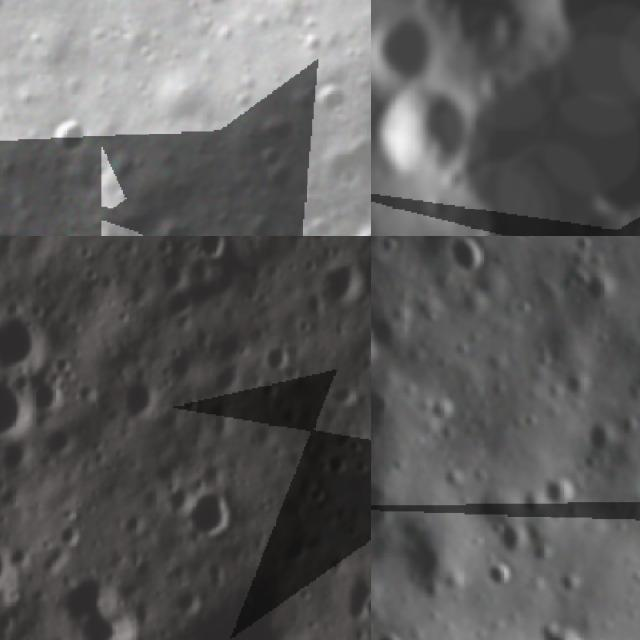crater: (371, 73, 483, 184), (57, 553, 151, 640), (371, 1, 447, 92), (298, 59, 360, 133), (372, 236, 499, 270), (181, 486, 244, 546), (0, 300, 49, 377), (116, 367, 174, 429), (40, 107, 95, 167), (317, 253, 365, 314), (519, 604, 599, 640), (0, 371, 35, 448), (0, 525, 28, 618), (533, 463, 584, 514), (570, 258, 621, 309), (486, 510, 535, 560), (440, 236, 494, 280), (371, 485, 395, 581), (553, 358, 601, 406), (577, 410, 623, 457), (478, 550, 522, 594), (160, 282, 207, 322), (27, 376, 66, 423), (40, 423, 80, 462), (0, 436, 38, 476), (45, 520, 88, 553), (426, 388, 462, 427), (189, 236, 229, 271), (258, 336, 294, 372), (435, 458, 471, 494), (549, 561, 586, 596), (383, 294, 418, 330), (355, 236, 371, 307), (323, 381, 358, 412), (371, 615, 414, 640), (317, 450, 351, 480), (371, 316, 385, 378), (371, 236, 405, 261), (472, 219, 512, 236), (0, 214, 26, 236), (361, 590, 371, 628), (514, 236, 540, 243)
